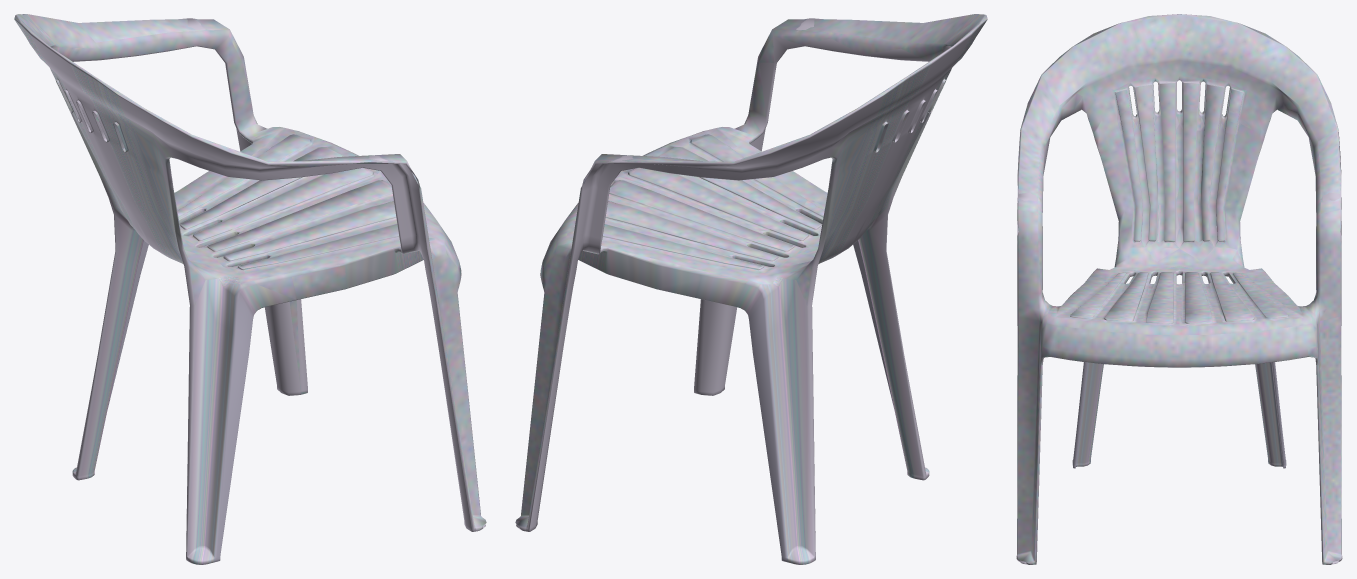
File: chair_lim.fbx
3 renders of one model, left to right at view 1: azimuth 30°, elevation 25°; view 2: azimuth 150°, elevation 25°; view 3: azimuth 270°, elevation 25°, orthographic. The views are drawn at different scales.
Parts seen in each view (by area): view 1: Plane.001; view 2: Plane.001; view 3: Plane.001.
Boxes of the visible parts, left/top/right/bottom form: Plane.001: left=14, top=14, right=486, bottom=564; Plane.001: left=515, top=14, right=987, bottom=564; Plane.001: left=1016, top=14, right=1342, bottom=564.
Bounding box in the file's own units: 386 × 503 × 362.
